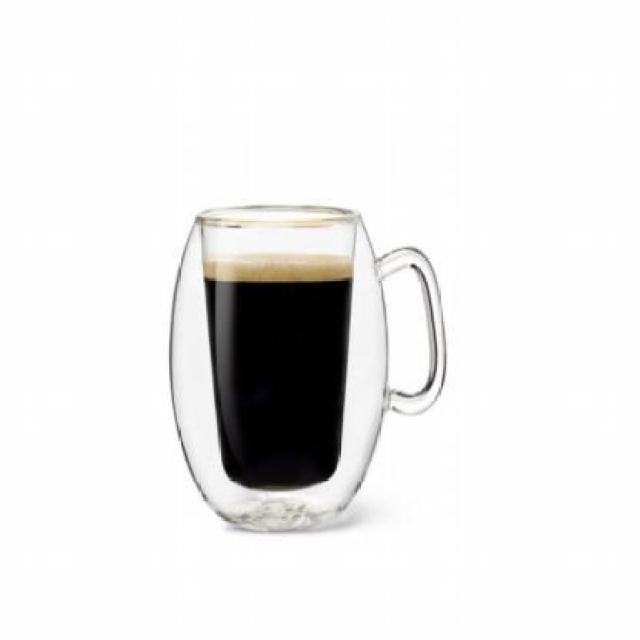cup: (155, 202, 450, 548)
